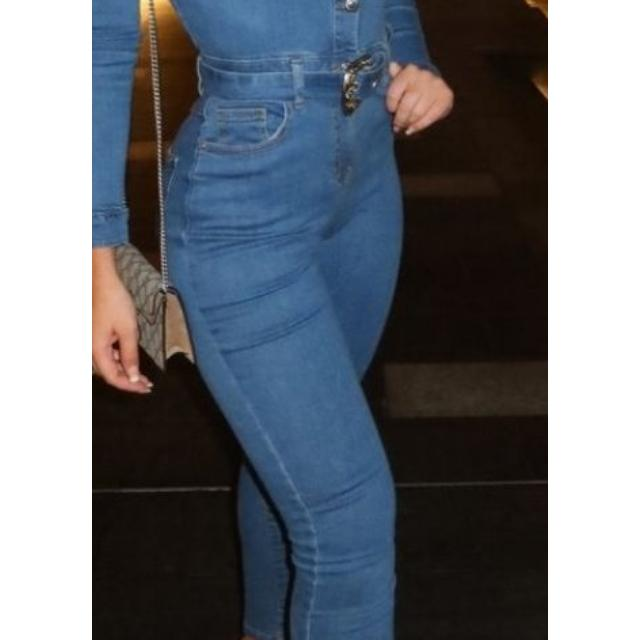denim: (92, 0, 428, 640)
